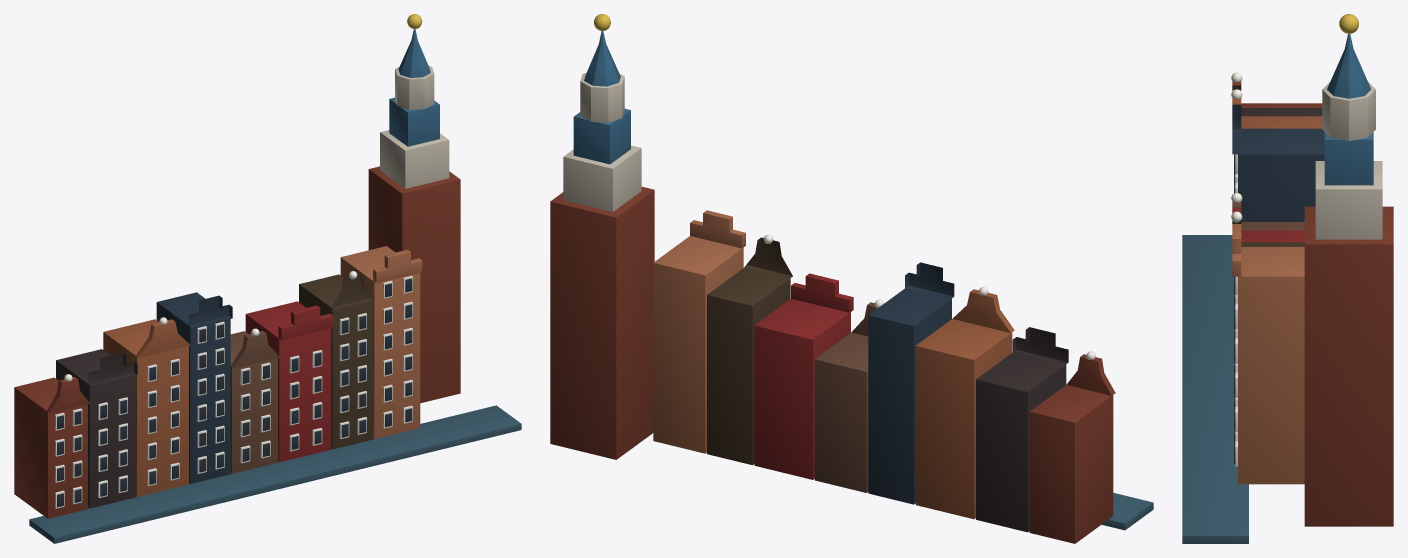
Rendered from marco_amsterdam.glb.
3 renders of one model, left to right at view 1: azimuth 30°, elevation 25°; view 2: azimuth 150°, elevation 25°; view 3: azimuth 270°, elevation 25°, orthographic. The views are drawn at different scales.
Visible parts, largest first — view 1: marco_amsterdam; view 2: marco_amsterdam; view 3: marco_amsterdam.
Part boxes in pixels (x1,y1,x2,y2): marco_amsterdam: (14, 14, 521, 543); marco_amsterdam: (550, 14, 1153, 543); marco_amsterdam: (1182, 14, 1393, 543).
Size of the model in its own units: 64 by 49.7 by 19.
